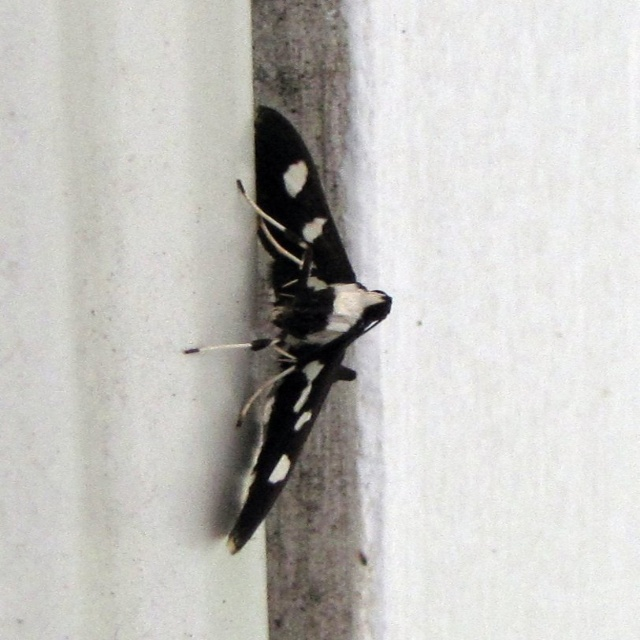Butterfly: (193, 105, 401, 560)
